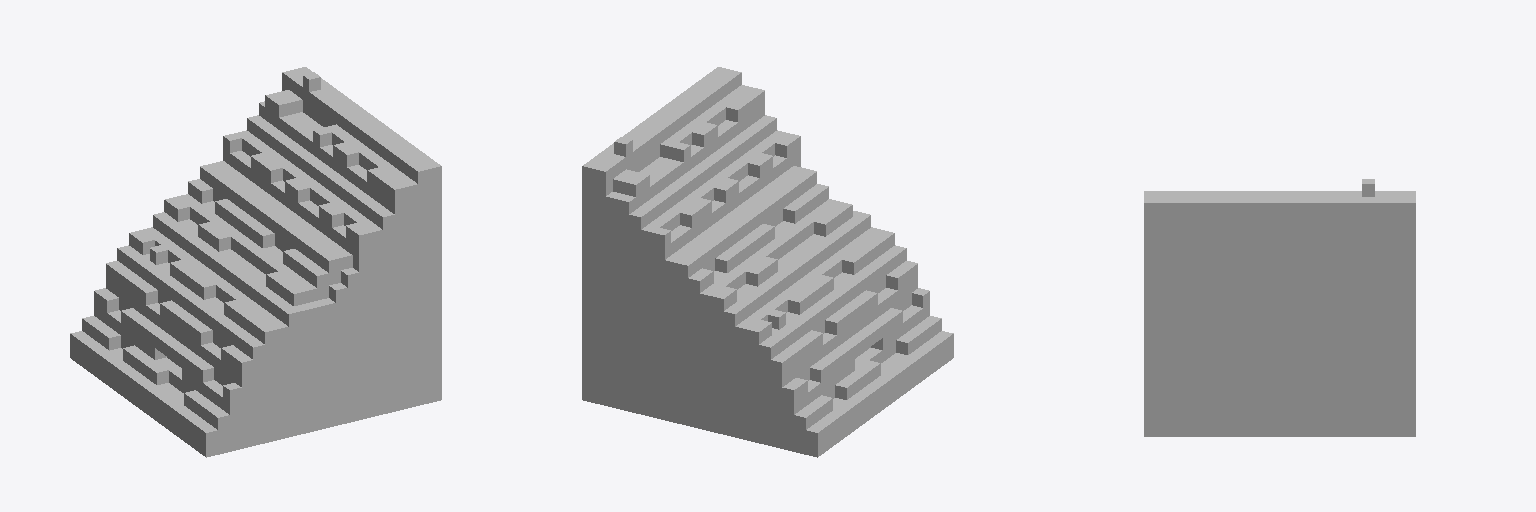
File: stairs.obj
The picture shows the model from 3 angles: view 1: azimuth 30°, elevation 25°; view 2: azimuth 150°, elevation 25°; view 3: azimuth 270°, elevation 25°; orthographic projection.
Parts seen in each view (by area): view 1: object 1; view 2: object 1; view 3: object 1.
Boxes of the visible parts, x1=… form: object 1: x1=70, y1=67, x2=441, y2=457; object 1: x1=582, y1=67, x2=953, y2=457; object 1: x1=1144, y1=179, x2=1415, y2=436.
Size of the model in its own units: 2 by 2 by 2.